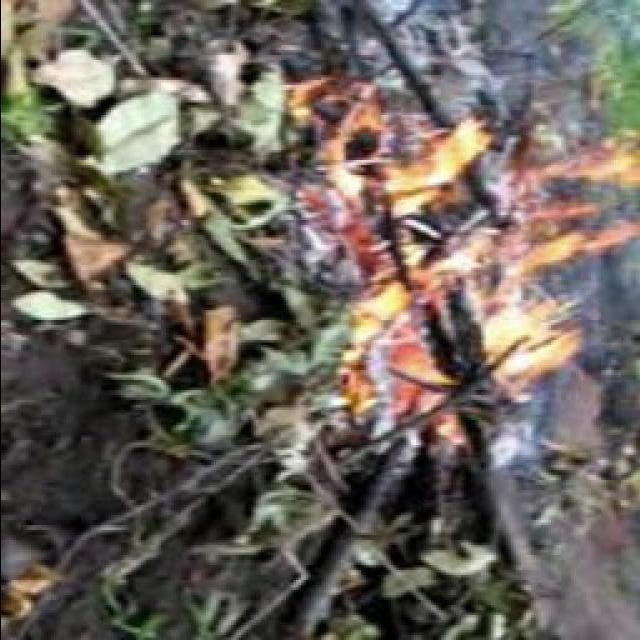Fire: (327, 84, 637, 444)
